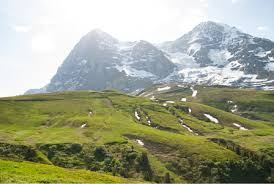field: (4, 95, 274, 181)
mountain: (65, 27, 273, 96)
